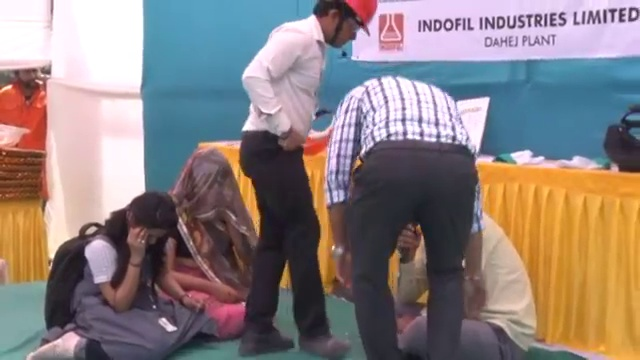helmet: (339, 2, 382, 38), (1, 122, 30, 152)
helmet_off: (179, 152, 237, 221), (114, 191, 181, 247), (13, 61, 41, 93)
helmet_on: (307, 1, 384, 51)
person: (236, 0, 384, 360), (322, 75, 483, 359), (33, 189, 214, 357), (400, 209, 538, 359), (157, 150, 260, 338), (0, 60, 46, 150)
